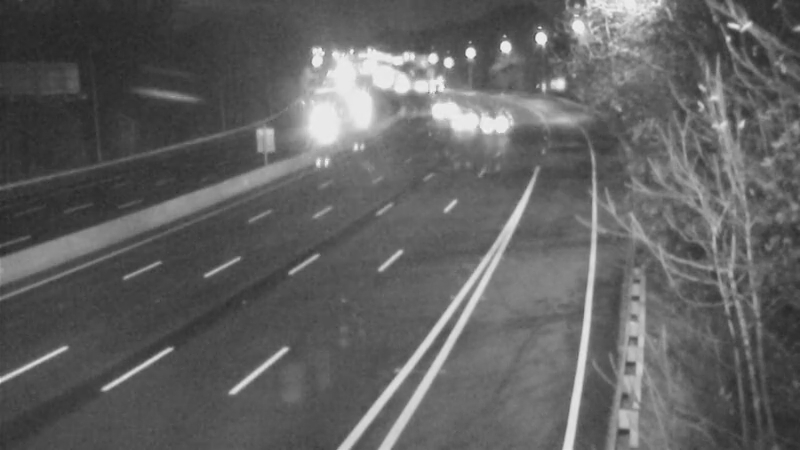vehicle: (415, 89, 465, 139), (435, 96, 485, 146), (464, 97, 514, 147), (290, 95, 340, 145), (332, 84, 382, 134)
